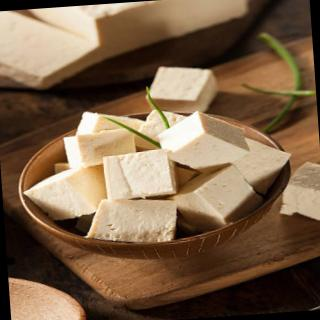Tahu: (18, 95, 301, 255), (1, 1, 256, 90), (140, 54, 224, 119), (273, 154, 320, 228)
